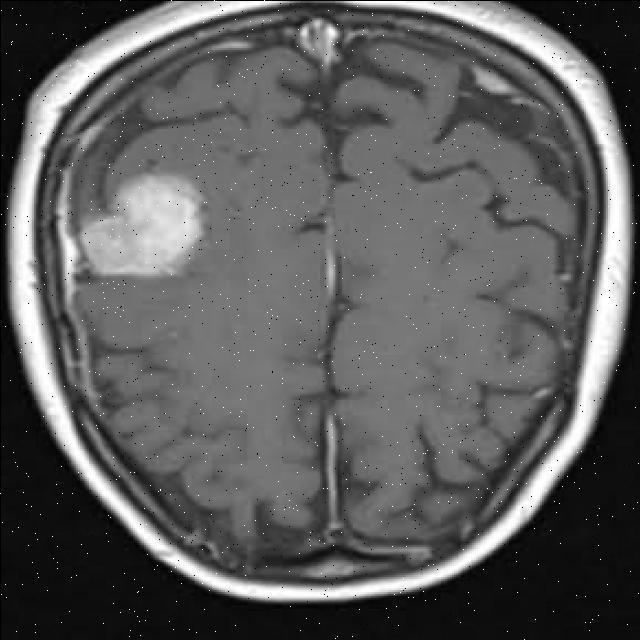Meningioma: (81, 175, 202, 275)
